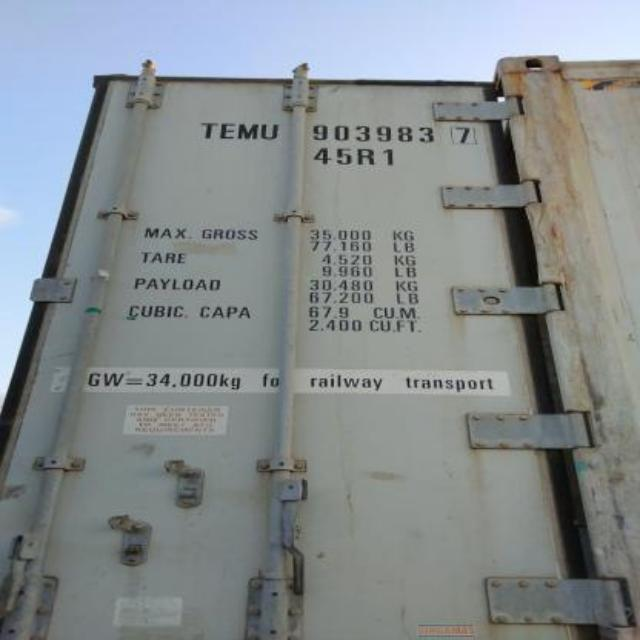0: (332, 120, 352, 146)
9: (310, 118, 326, 148)
E: (219, 119, 237, 149)
M: (236, 119, 260, 151)
T: (198, 116, 218, 150)
U: (260, 120, 276, 150)
